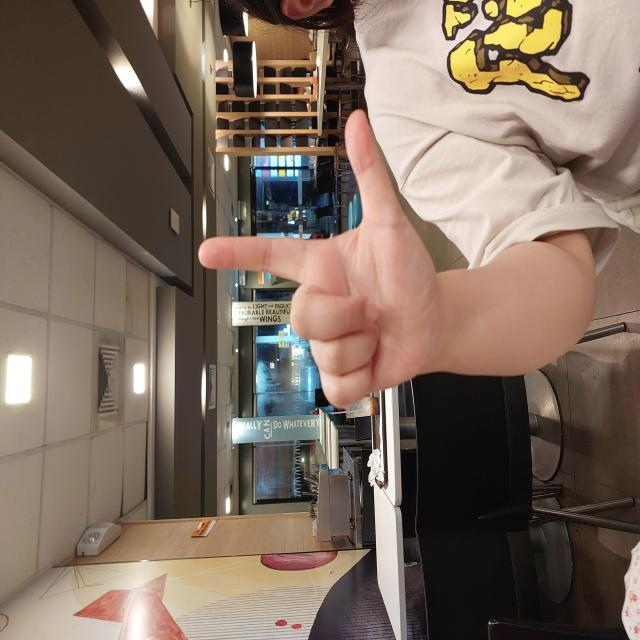L: (231, 197, 534, 442)
